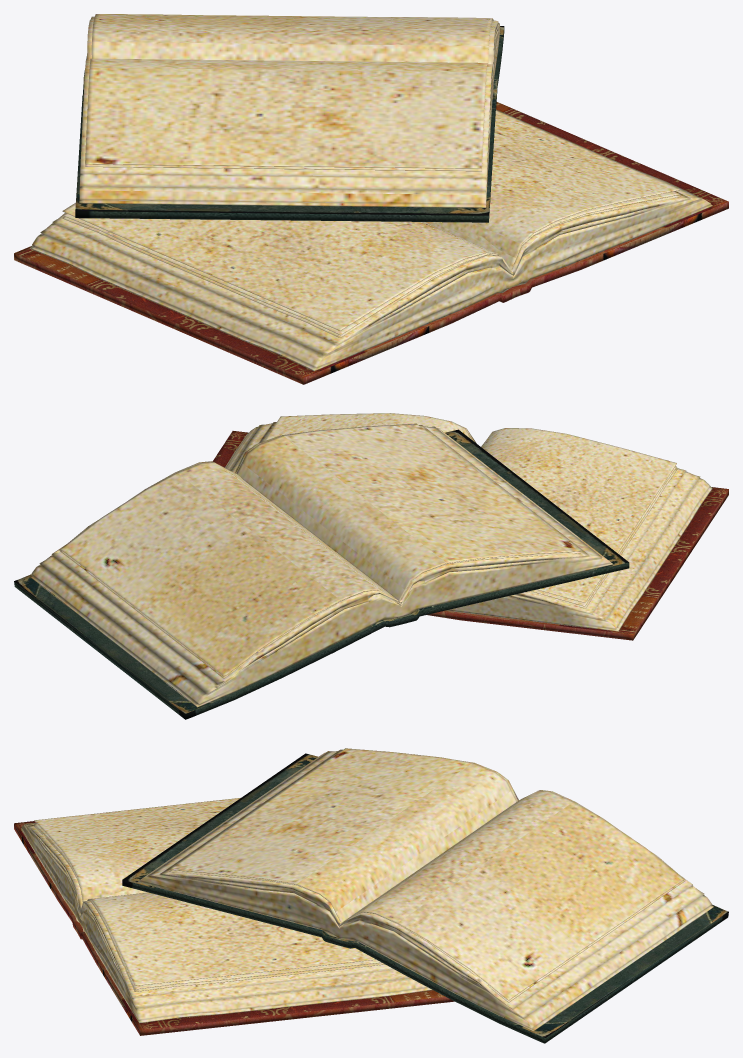
3 views of the same model, one above another, from view 1: azimuth 30°, elevation 25°; view 2: azimuth 150°, elevation 25°; view 3: azimuth 270°, elevation 25° (orthographic). The views are drawn at different scales.
Visible parts, largest first — view 1: Open Book Pages.001, Open Book Pages, Open Book, Open Book.001; view 2: Open Book Pages.001, Open Book Pages, Open Book.001, Open Book; view 3: Open Book Pages.001, Open Book Pages, Open Book.001, Open Book.
Boxes of the visible parts, left/top/right/bottom form: Open Book Pages.001: left=79, top=14, right=500, bottom=207; Open Book Pages: left=30, top=109, right=712, bottom=371; Open Book: left=14, top=102, right=728, bottom=384; Open Book.001: left=75, top=26, right=504, bottom=222; Open Book Pages.001: left=29, top=423, right=613, bottom=707; Open Book Pages: left=225, top=413, right=712, bottom=631; Open Book.001: left=14, top=429, right=629, bottom=719; Open Book: left=212, top=431, right=728, bottom=640; Open Book Pages.001: left=137, top=748, right=713, bottom=1030; Open Book Pages: left=21, top=798, right=432, bottom=1023; Open Book.001: left=122, top=753, right=728, bottom=1043; Open Book: left=14, top=821, right=454, bottom=1035.
Size of the model in its own units: 0.7988 by 0.137 by 0.9664.
3 materials, 3 textured.
